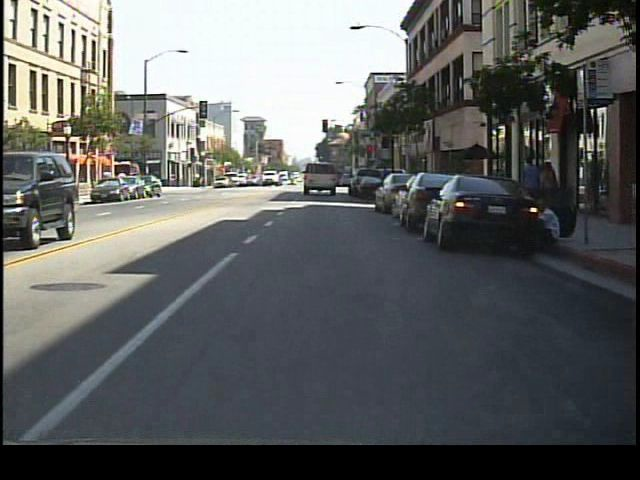person: (516, 150, 542, 224), (535, 158, 559, 221)
